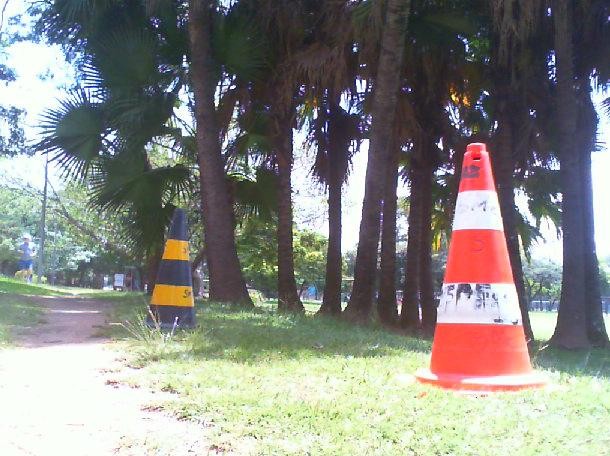0 cone: (416, 143, 544, 393), (143, 209, 196, 329)
